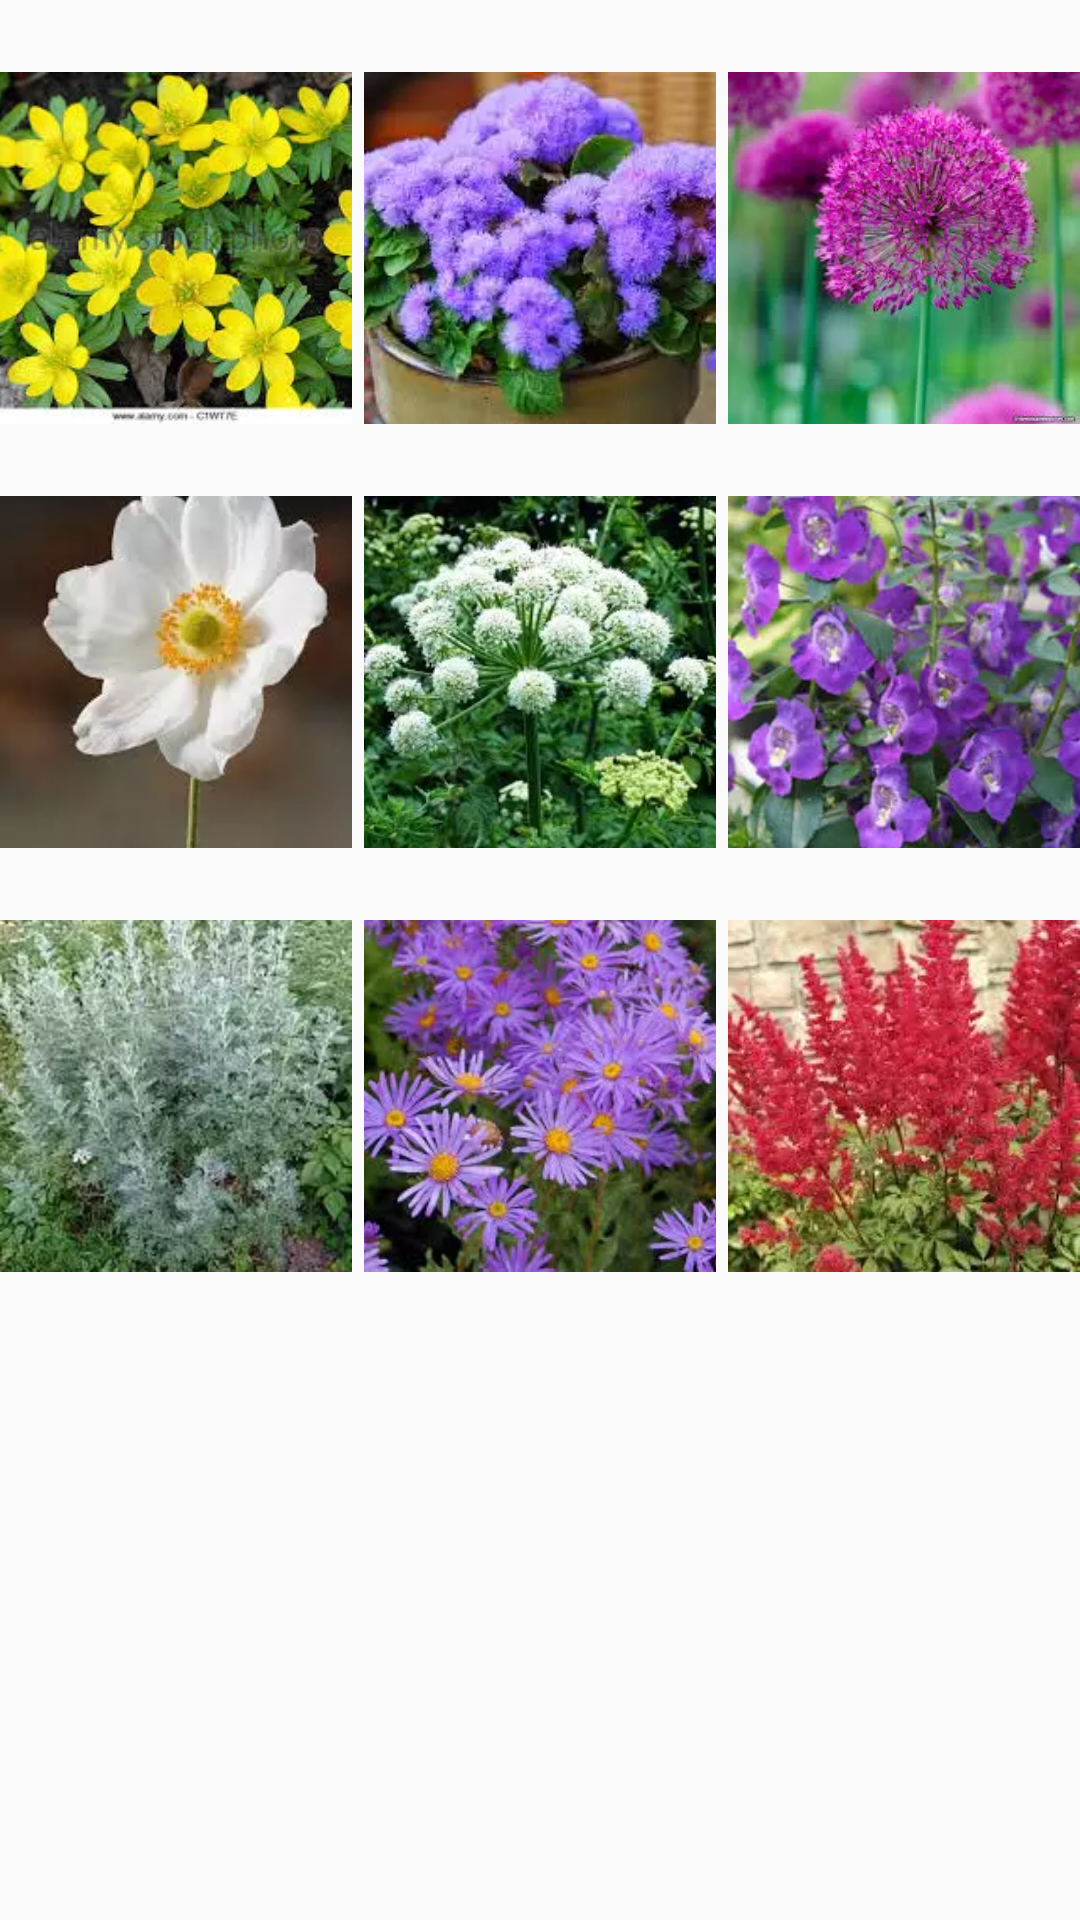

Named icons in this screenshot (1080px×1920px) and their centers, [x,y]:
flower aconite: [176,247]
flower ageratum: [540,248]
flower allium: [904,248]
flower anemone: [176,672]
flower angelica: [540,672]
flower angelonia: [904,672]
flower artemisia: [176,1096]
flower aster: [540,1096]
flower astilbe: [904,1096]
